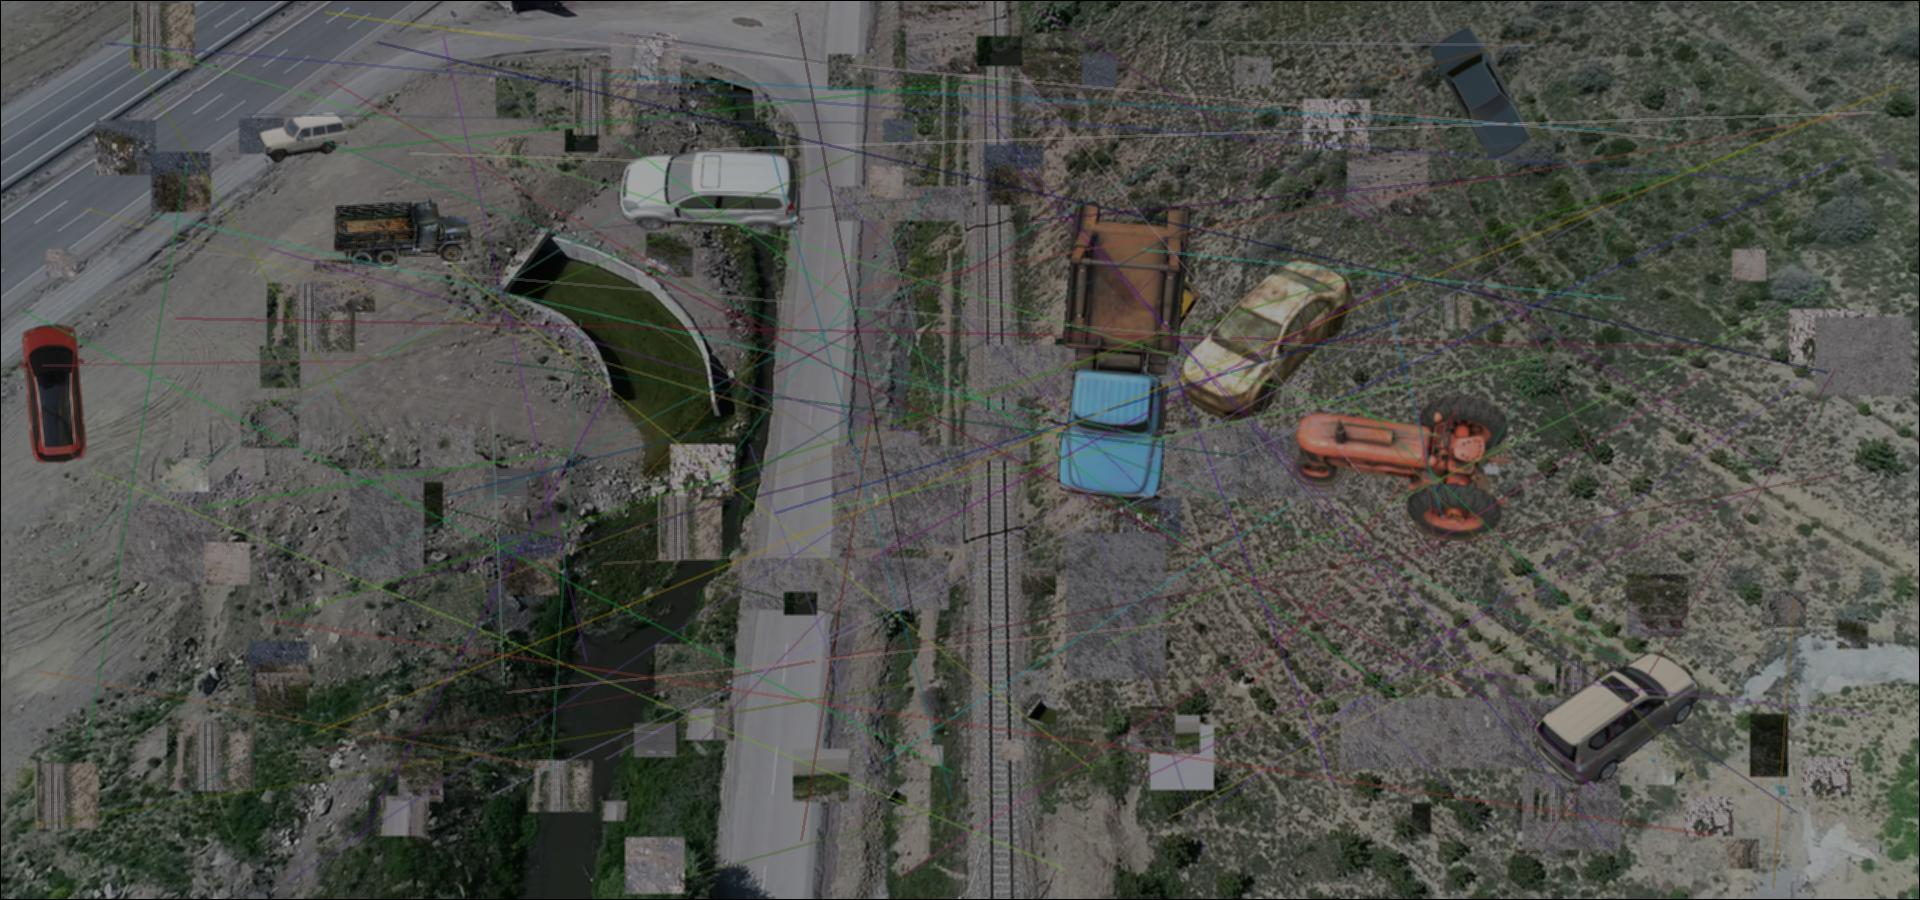arac: (1047, 195, 1198, 507), (1287, 389, 1520, 541), (1176, 258, 1371, 429), (1531, 653, 1703, 787), (618, 144, 808, 236), (1430, 26, 1533, 159), (17, 320, 91, 467), (334, 198, 474, 268), (1131, 276, 1204, 356), (258, 113, 347, 163)
